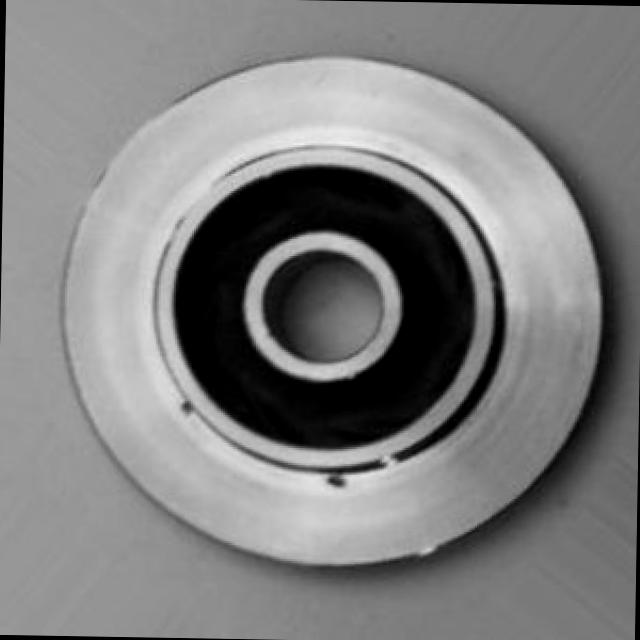Defect: (326, 467, 352, 492)
